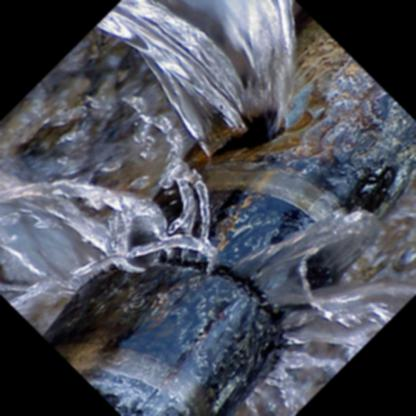burst: (123, 204, 315, 353), (190, 79, 307, 166)
